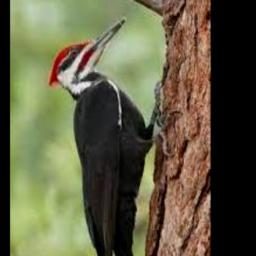Woodpecker: (49, 17, 177, 256)
